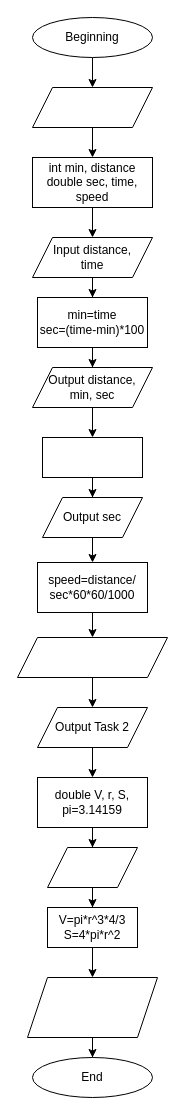
The diagram is 185 pixels wide and 1115 high, and some of its shapes have lost their labels. Each missing label, with the box of its shape:
Input r: (46, 846, 138, 888)
Output round(speed*100)/100: (16, 636, 168, 678)
Output round(V*100)/100 round(S*100)/100: (26, 976, 158, 1038)
Output Task 1: (32, 86, 152, 128)
sec=sec+min*60: (42, 436, 142, 478)
